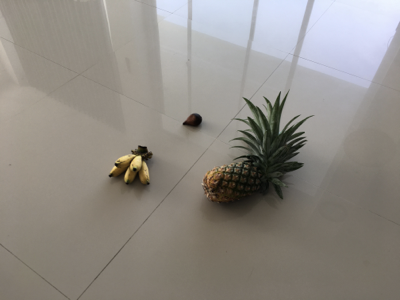banana: (108, 144, 154, 190)
pineapple: (202, 88, 315, 207)
snake fruit: (183, 114, 202, 129)
